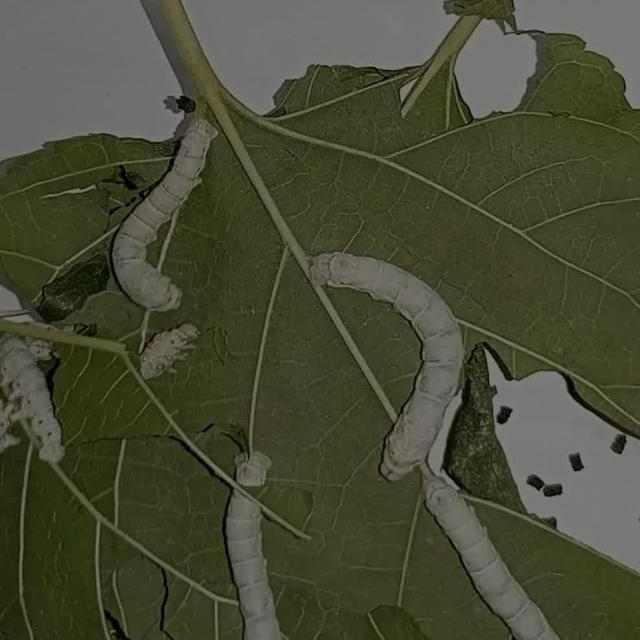Healthy: (303, 235, 548, 486), (53, 93, 239, 328)
